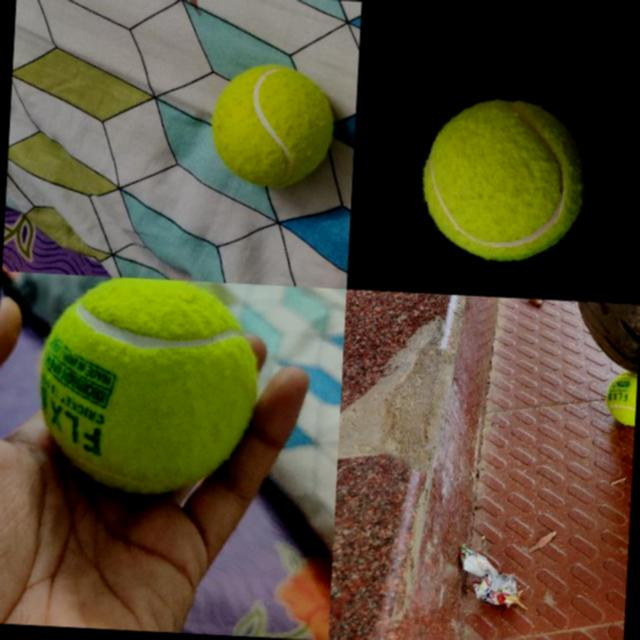tennis-ball: (32, 274, 264, 502), (418, 96, 590, 266), (209, 62, 337, 192), (604, 376, 636, 427)
